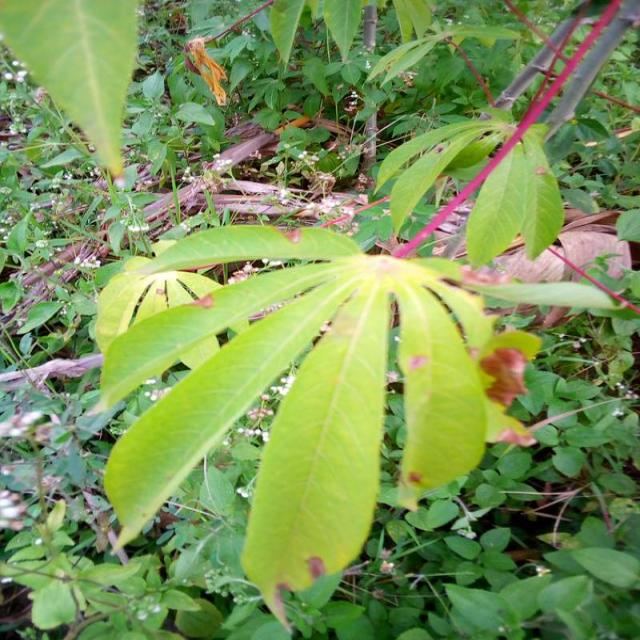cassava leaf: (94, 222, 539, 629), (239, 274, 391, 631), (0, 0, 141, 183)
